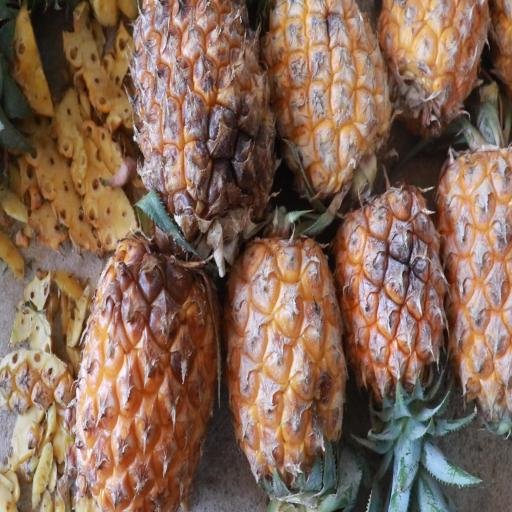Pineapple - v8 v1: (71, 216, 223, 511), (128, 0, 277, 250), (226, 225, 358, 481), (336, 172, 458, 400), (263, 0, 400, 200), (435, 128, 512, 447), (374, 0, 493, 128)
